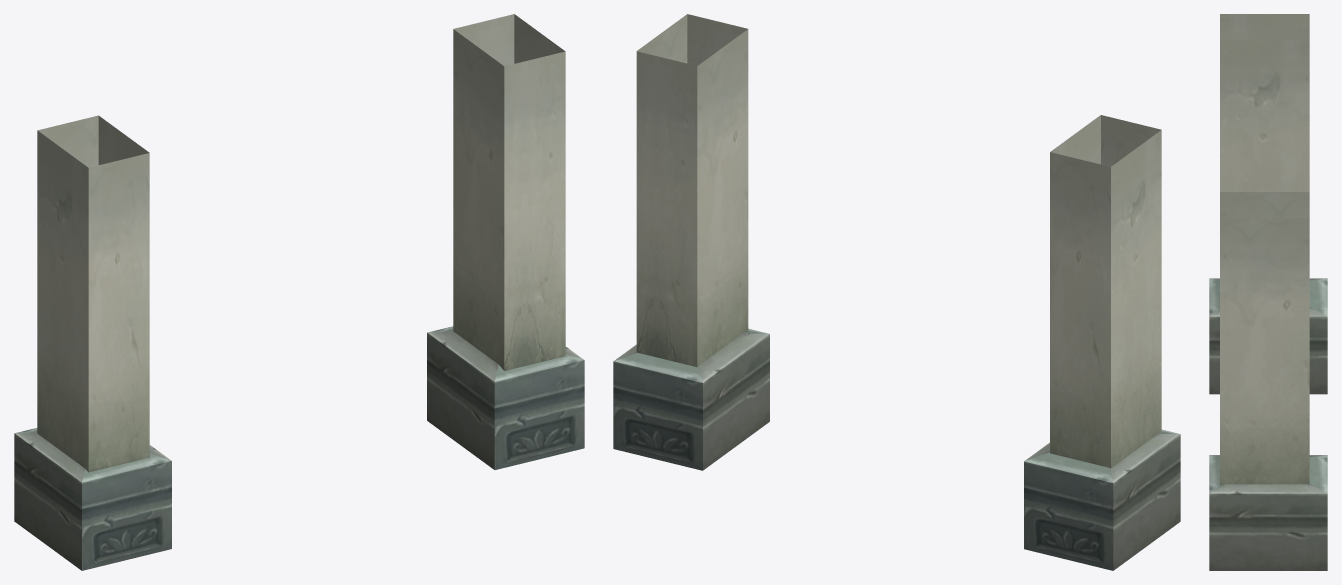
Rendered from szc_building_12a_zhu.FBX.
The picture shows the model from 3 angles, left to right: view 1: azimuth 30°, elevation 25°; view 2: azimuth 150°, elevation 25°; view 3: azimuth 270°, elevation 25°; orthographic projection. The views are drawn at different scales.
Parts seen in each view (by area): view 1: szc_building_12_zhu; view 2: szc_building_12_zhu; view 3: szc_building_12_zhu.
Part boxes in pixels (x1,y1,x2,y2): szc_building_12_zhu: (14,14,584,570); szc_building_12_zhu: (613,14,1180,570); szc_building_12_zhu: (1209,14,1327,570).
Size of the model in its own units: 347 by 261 by 80.73.
